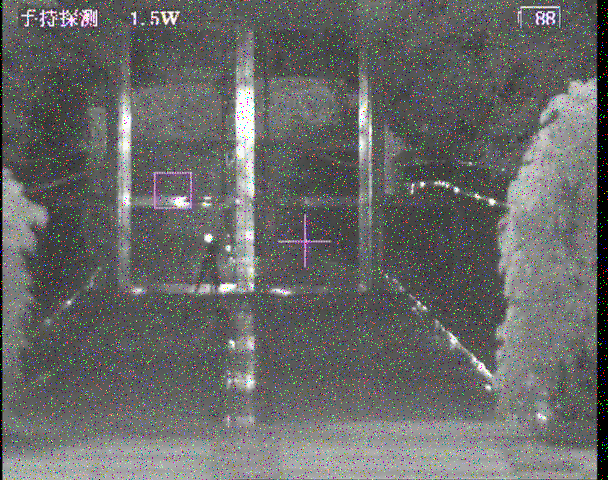my: (203, 231, 213, 243)
